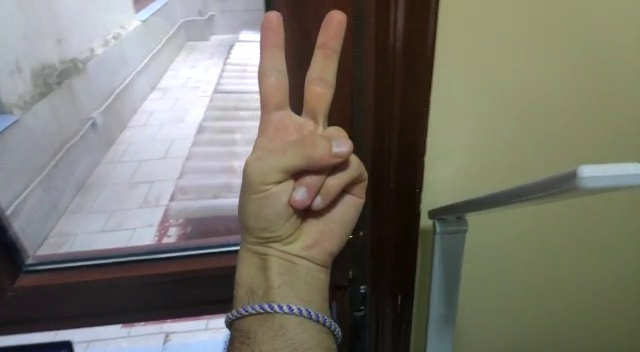Peace: (231, 8, 370, 245)
